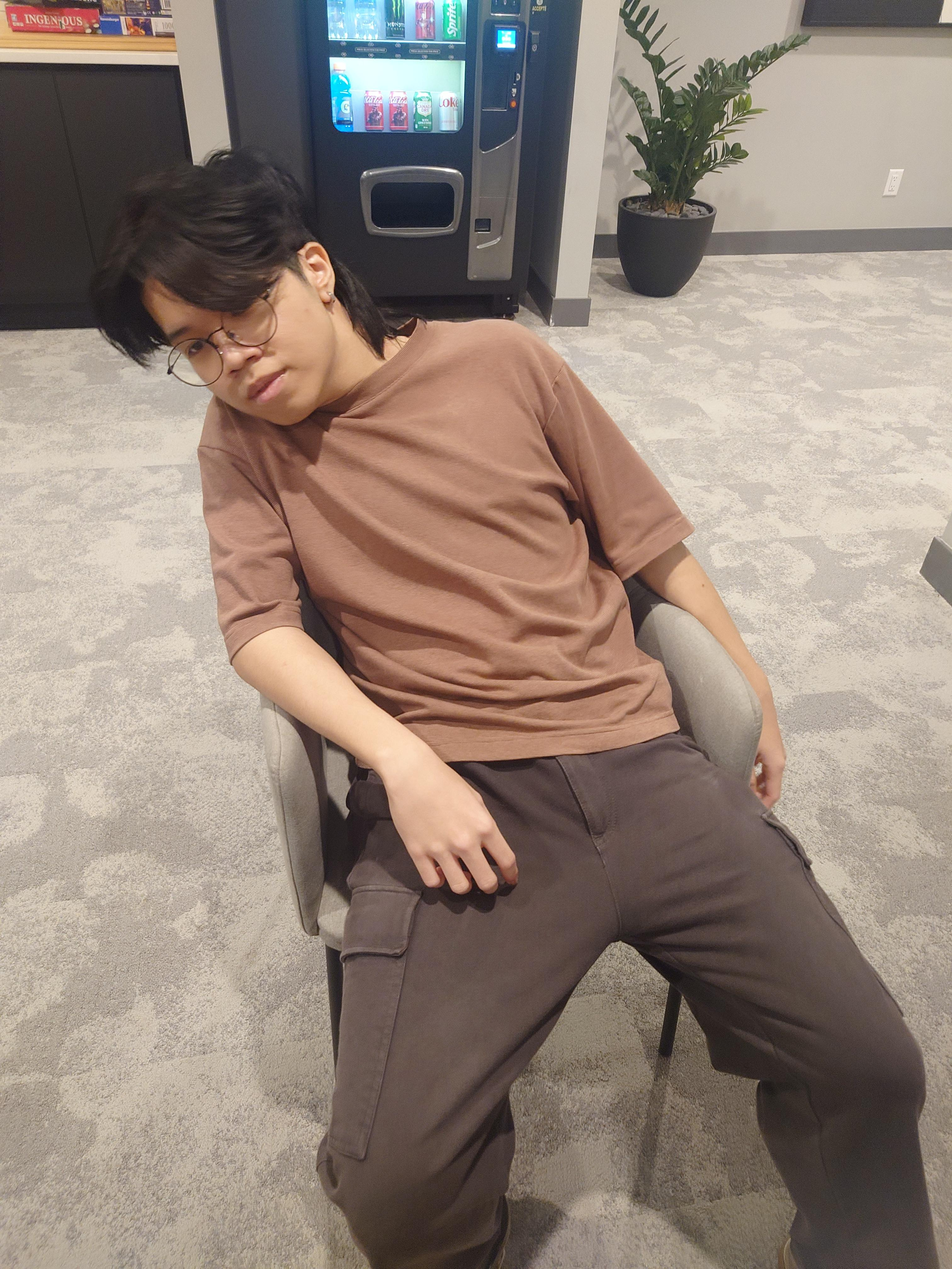BadPosture: (87, 146, 941, 1269)
